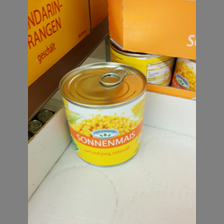corn: (58, 62, 146, 166)
